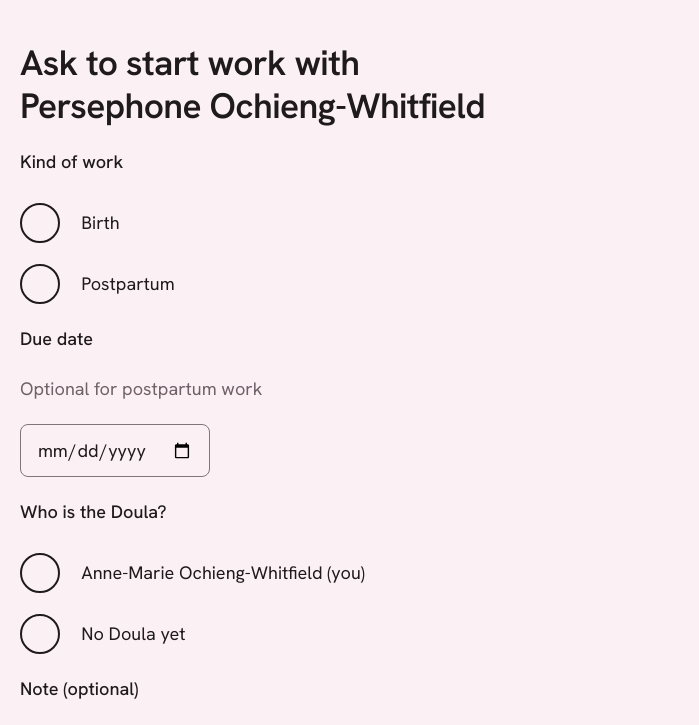
Scenario: the Engagement Request screen › surfaces the endpoint refusal as an error rather than a silent failure
Check: the heading "Ask to start work with Persephone Ochieng-Whitfield" is shown, box [20, 40, 485, 129]
Click the radio button labelled "Birth". click: point(40, 223)
box: [20, 203, 60, 243]
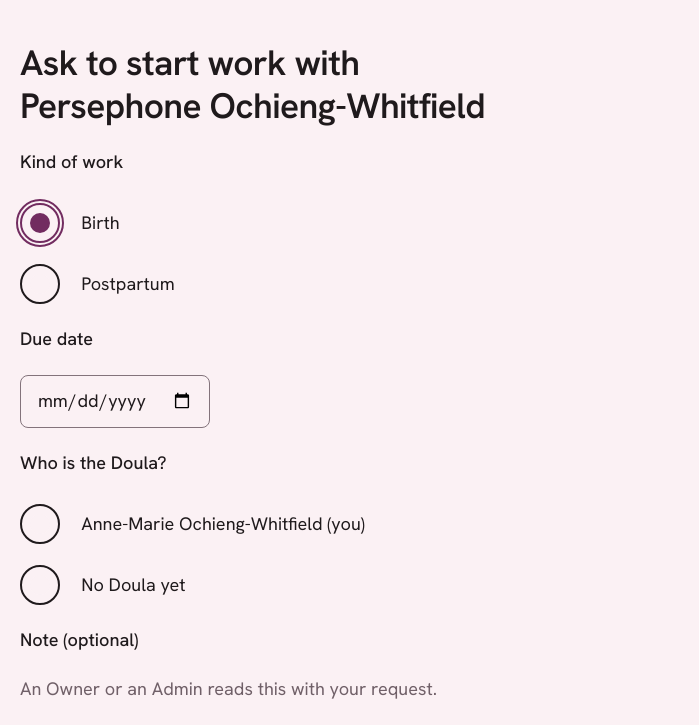
Type "2027-03-01" into the date field labelled "Due date". click: point(115, 401)
box: [20, 375, 210, 428]
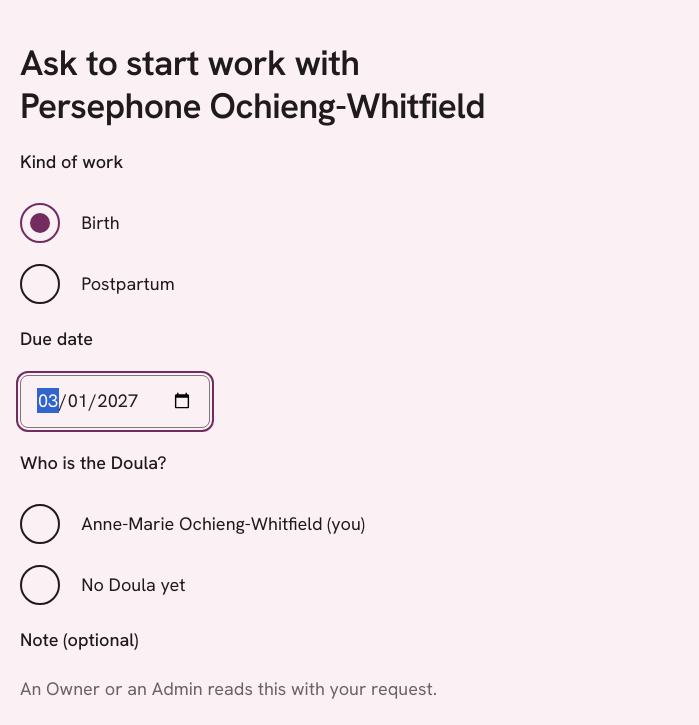
Click the radio button labelled "No Doula yet". click: point(40, 585)
box: [20, 565, 60, 605]
(page scrolled)
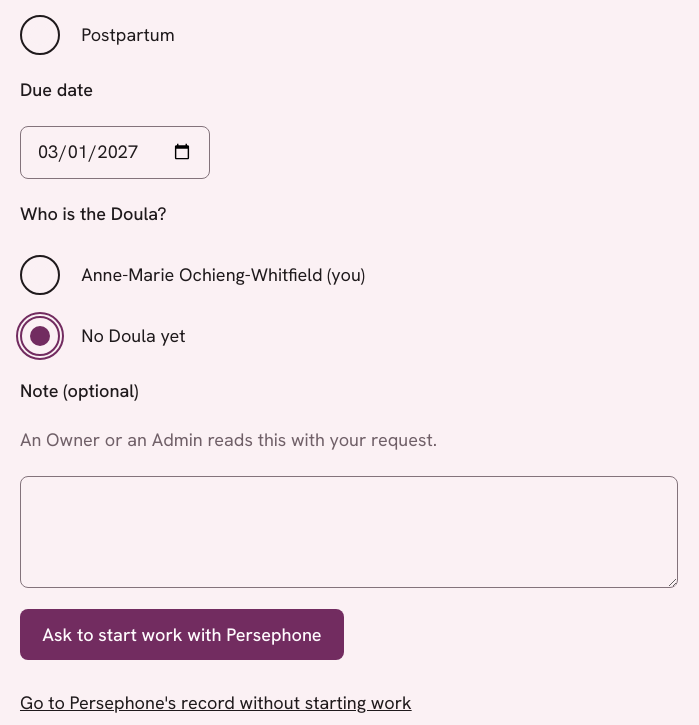
Click the button "Ask to start work with Persephone". click: point(182, 635)
box: [20, 609, 344, 660]
(page scrolled)
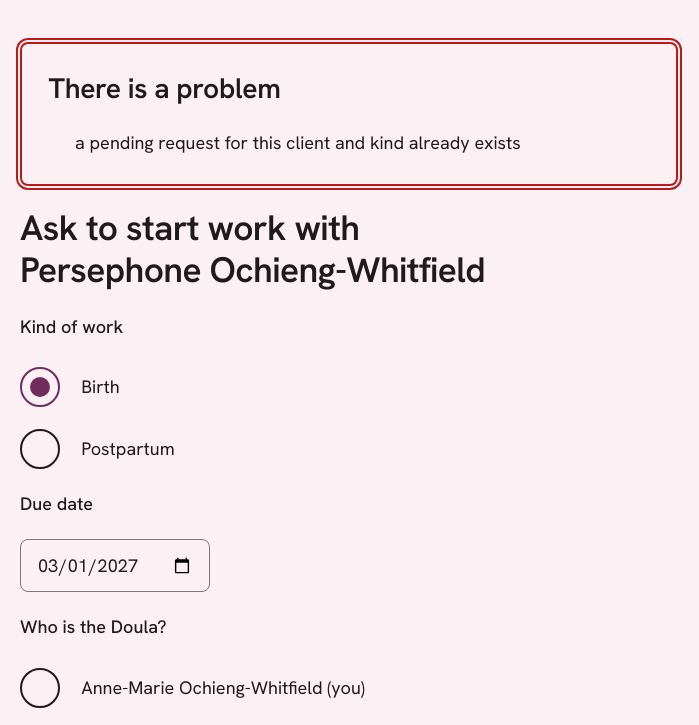
Check: the list item "a pending request for this client and kind already exists" is shown, box [75, 131, 521, 154]
